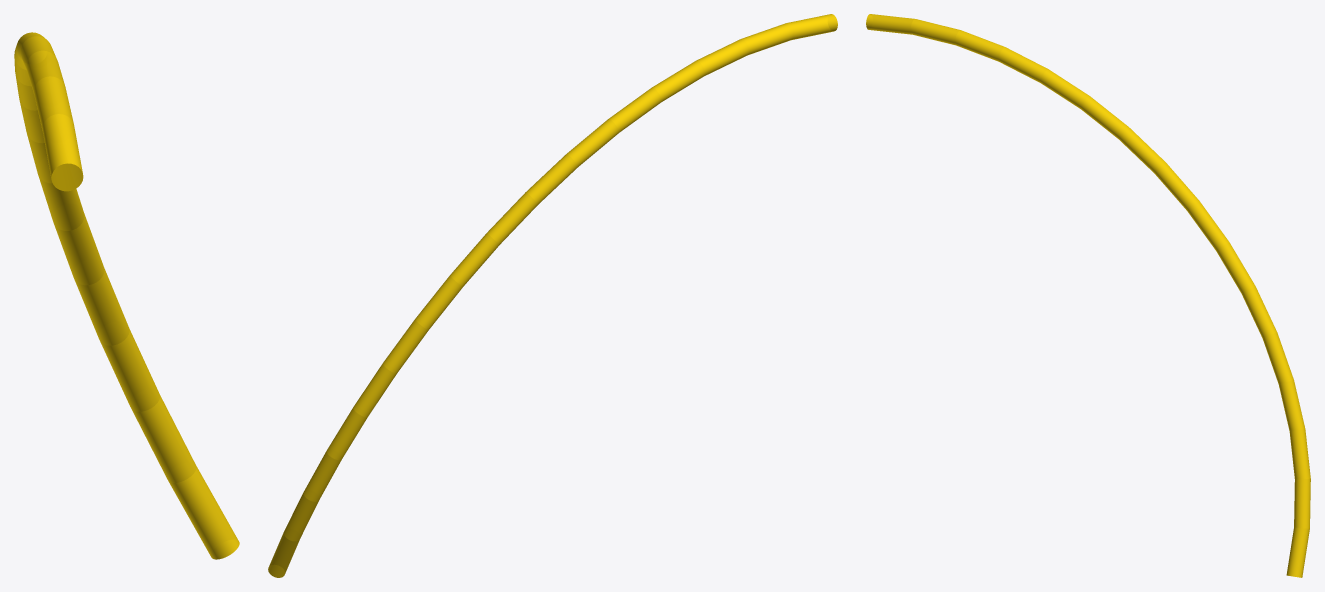
Rendered from Event_420107950_track_39.fbx.
3 views of the same model, side by side, from view 1: azimuth 30°, elevation 25°; view 2: azimuth 150°, elevation 25°; view 3: azimuth 270°, elevation 25° (orthographic). The views are drawn at different scales.
Parts seen in each view (by area): view 1: Model; view 2: Model; view 3: Model.
Part boxes in pixels (x1=…): Model: x1=14, y1=32, x2=239, y2=559; Model: x1=268, y1=14, x2=837, y2=577; Model: x1=866, y1=14, x2=1310, y2=577.
Bounding box in the file's own units: 0.8721 × 1.17 × 1.1.
